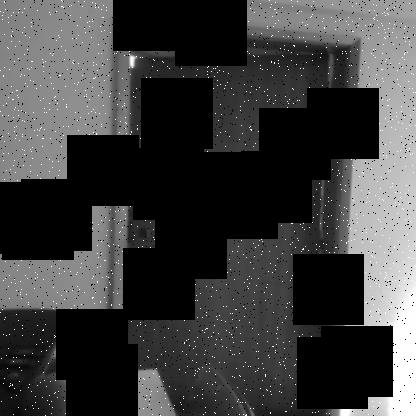Porte: (104, 12, 361, 415)
